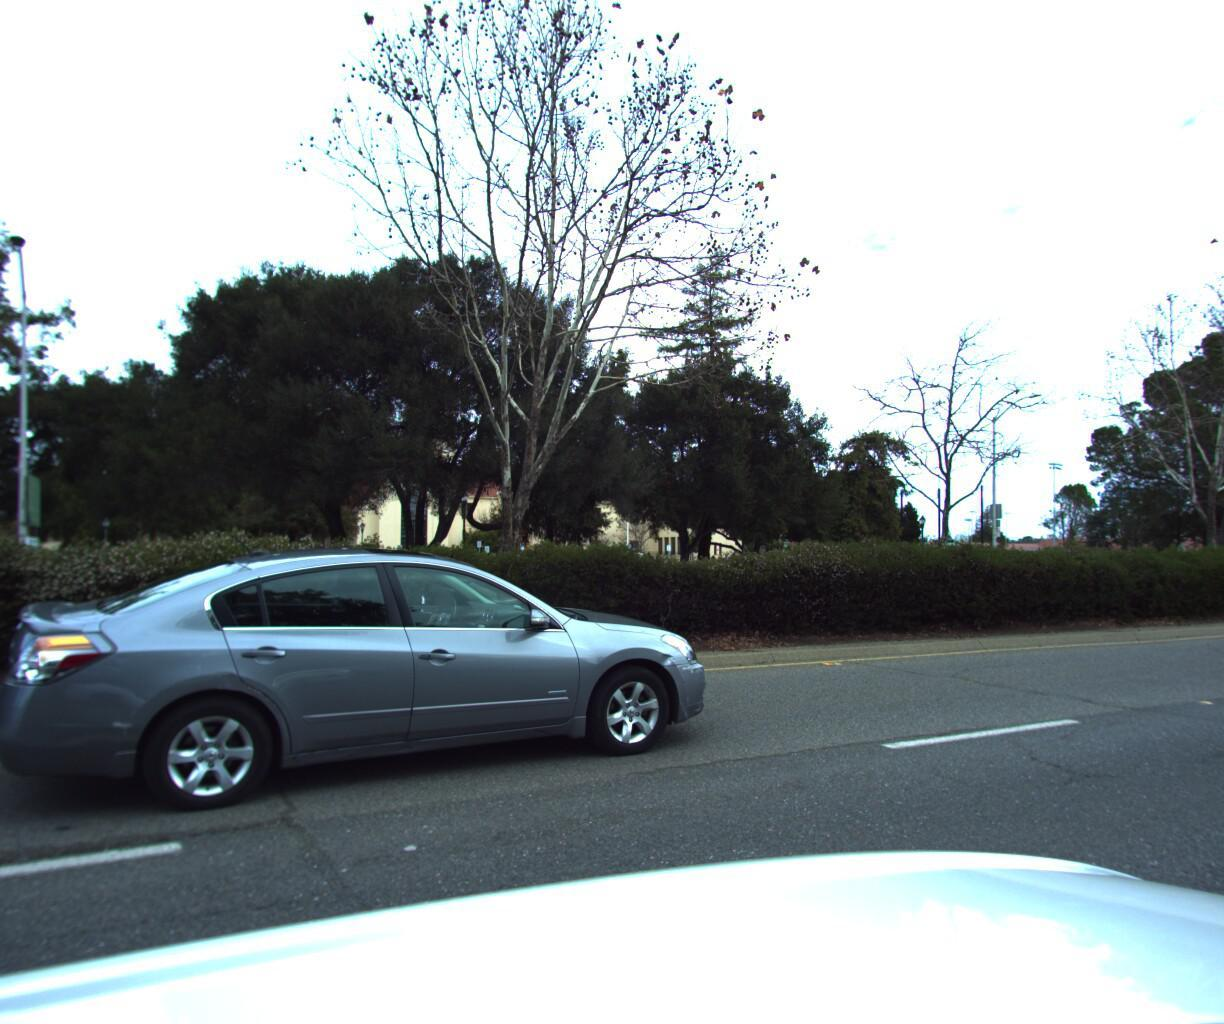car: (0, 551, 732, 859)
